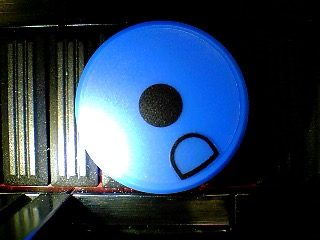BOHOMIPO1: (74, 20, 250, 195)
